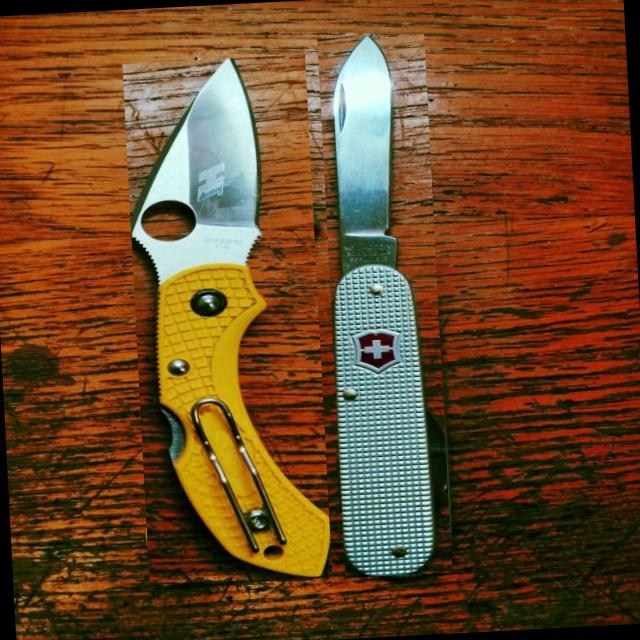Knife: (131, 58, 330, 577), (334, 36, 447, 576)
